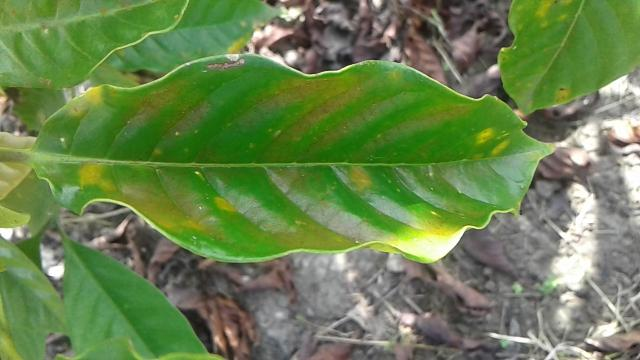rust_level_2: (31, 50, 563, 268)
